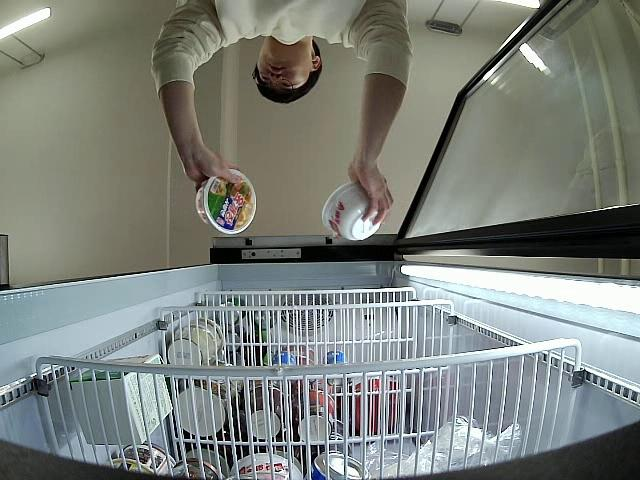00_hand: (347, 153, 394, 226), (182, 151, 242, 186)
09_yukGaeJang: (196, 170, 257, 233), (321, 180, 382, 240)
